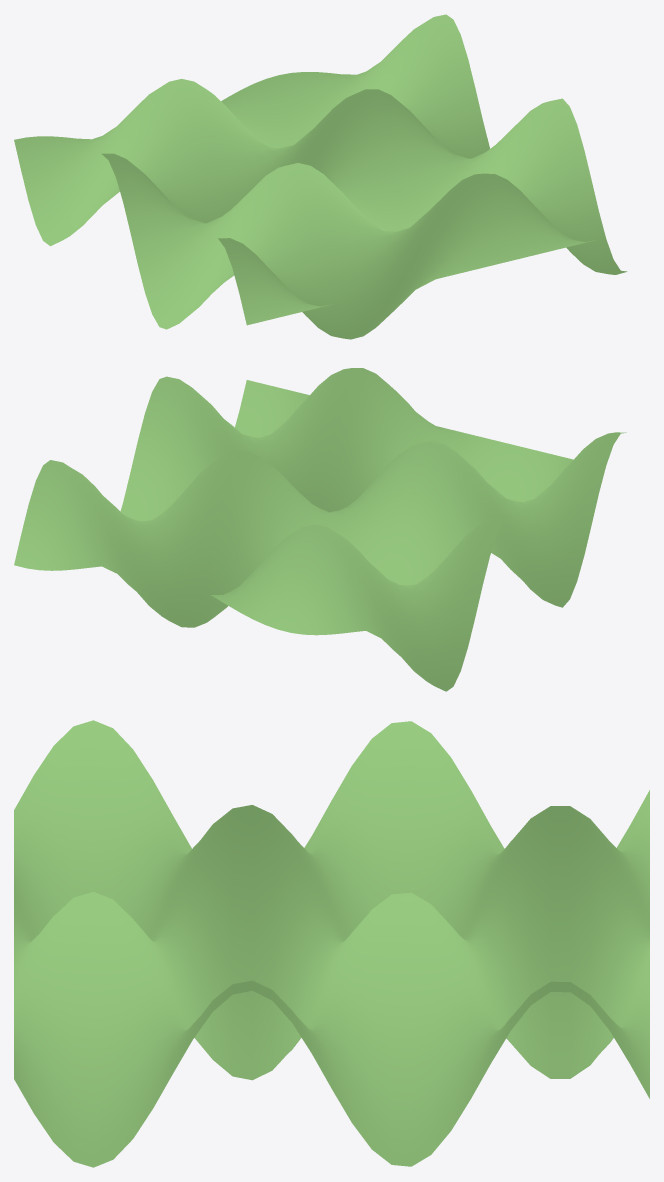
Rendered from hills.glb.
3 renders of one model, top to bottom at view 1: azimuth 30°, elevation 25°; view 2: azimuth 150°, elevation 25°; view 3: azimuth 270°, elevation 25°, orthographic. The views are drawn at different scales.
Visible parts, largest first — view 1: hills; view 2: hills; view 3: hills.
Boxes of the visible parts, left/top/right/bottom form: hills: left=14, top=14, right=627, bottom=339; hills: left=14, top=368, right=626, bottom=691; hills: left=14, top=720, right=649, bottom=1167.
Size of the model in its own units: 6.4 by 2 by 6.4.
